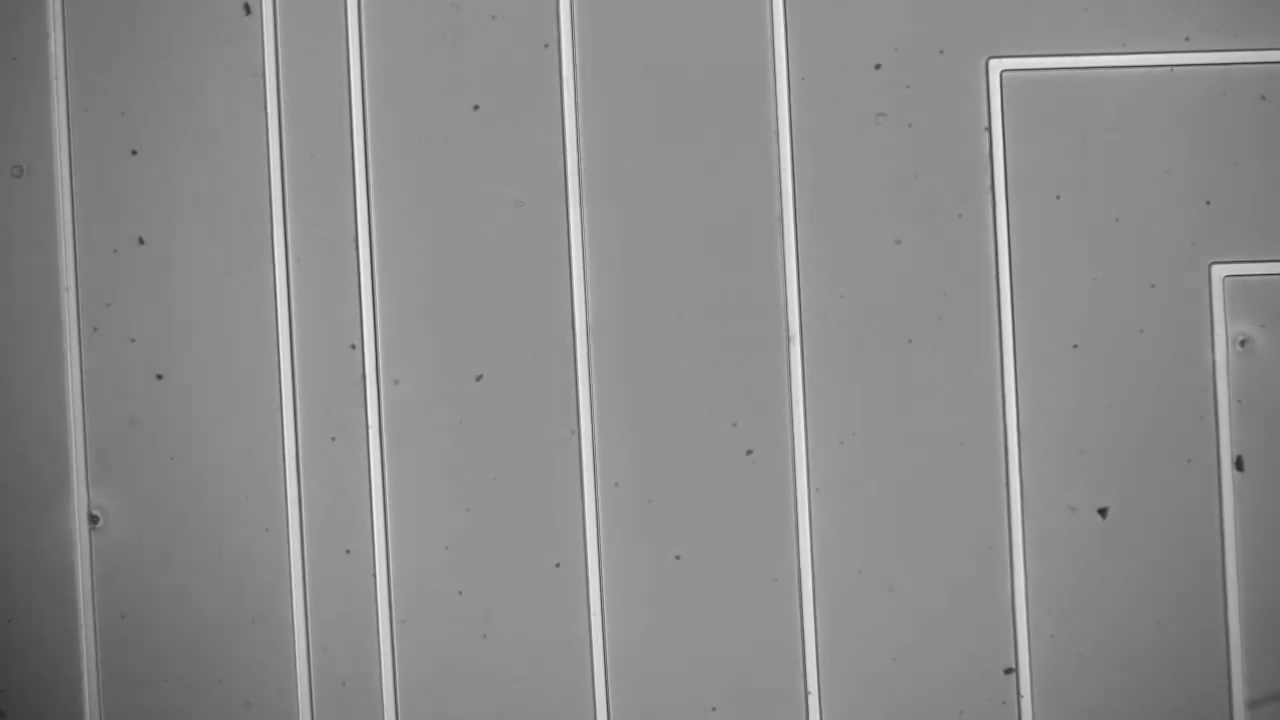stains_enbedded: (67, 501, 107, 540)
